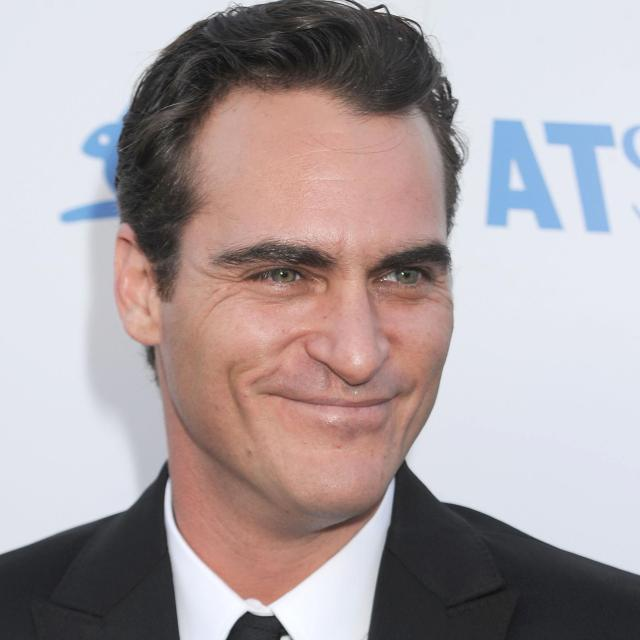no-earmuff: (95, 206, 177, 359)
